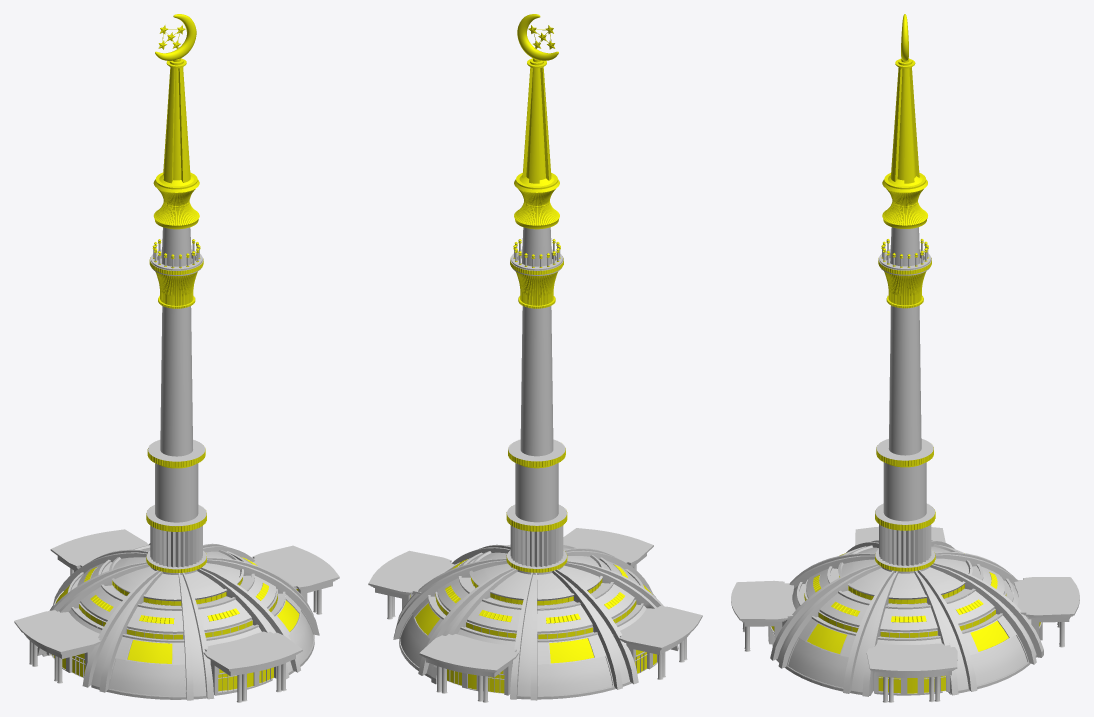
The model's file is garashsyzlykBinasy.FBX.
3 renders of one model, left to right at view 1: azimuth 30°, elevation 25°; view 2: azimuth 150°, elevation 25°; view 3: azimuth 270°, elevation 25°, orthographic.
Visible parts, largest first — view 1: Sphere005, garaşsyzlyk; view 2: Sphere005, garaşsyzlyk; view 3: Sphere005, garaşsyzlyk.
Part boxes in pixels (x1,y1,x2,y2): Sphere005: (14, 529, 339, 700); garaşsyzlyk: (146, 14, 206, 572); Sphere005: (368, 528, 702, 700); garaşsyzlyk: (506, 14, 567, 572); Sphere005: (731, 526, 1079, 696); garaşsyzlyk: (875, 14, 935, 571).
Bounding box in the file's own units: 10140 × 20323 × 10283.
